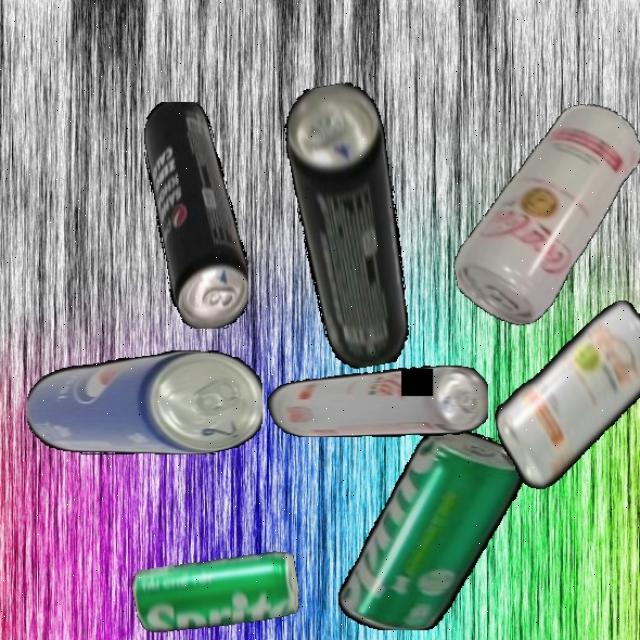debris: (430, 96, 640, 334), (278, 78, 423, 373), (338, 427, 528, 630), (479, 296, 640, 495), (26, 350, 263, 454), (144, 101, 248, 329), (130, 543, 303, 640), (264, 366, 488, 437)
